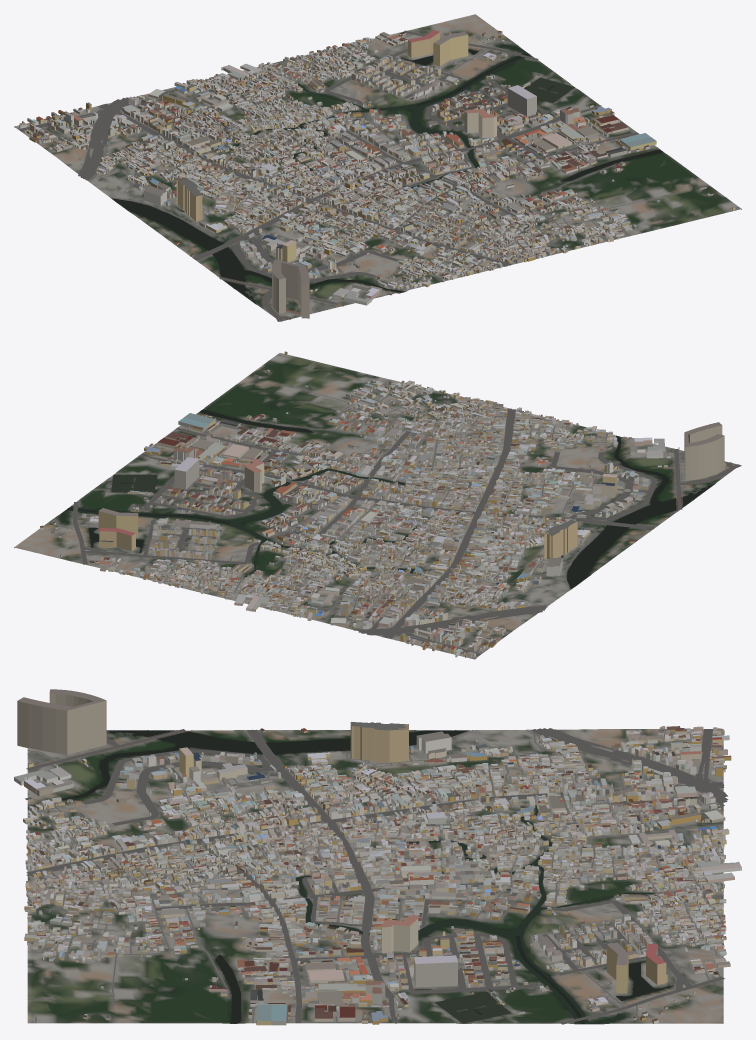
3 renders of one model, top to bottom at view 1: azimuth 30°, elevation 25°; view 2: azimuth 150°, elevation 25°; view 3: azimuth 270°, elevation 25°, orthographic. The views are drawn at different scales.
Visible parts, largest first — view 1: buildings, ground, roads, water; view 2: buildings, ground, roads, water; view 3: buildings, ground, roads, water.
Part boxes in pixels (x1=…): buildings: x1=19, y1=25, x2=735, y2=318; ground: x1=14, y1=14, x2=741, y2=320; roads: x1=14, y1=30, x2=738, y2=321; water: x1=112, y1=44, x2=663, y2=303; buildings: x1=40, y1=351, x2=724, y2=657; ground: x1=14, y1=353, x2=736, y2=659; roads: x1=54, y1=354, x2=741, y2=659; water: x1=60, y1=409, x2=714, y2=588; buildings: x1=14, y1=689, x2=741, y2=1025; ground: x1=27, y1=729, x2=723, y2=1024; roads: x1=25, y1=728, x2=728, y2=1024; water: x1=28, y1=730, x2=673, y2=1023.
Size of the model in its own units: 1416 by 105 by 1465.
